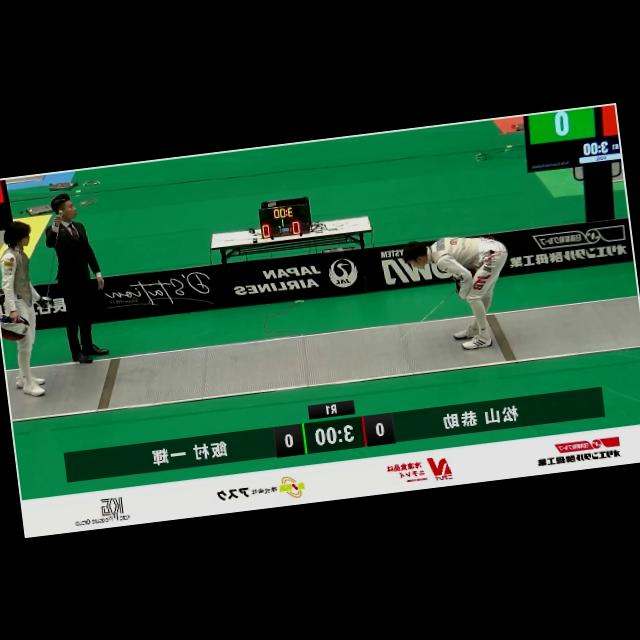blade: (27, 204, 76, 311), (389, 280, 469, 345)
